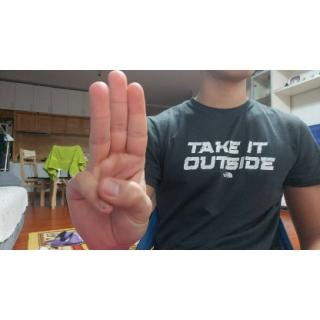THA: (64, 68, 158, 250)
